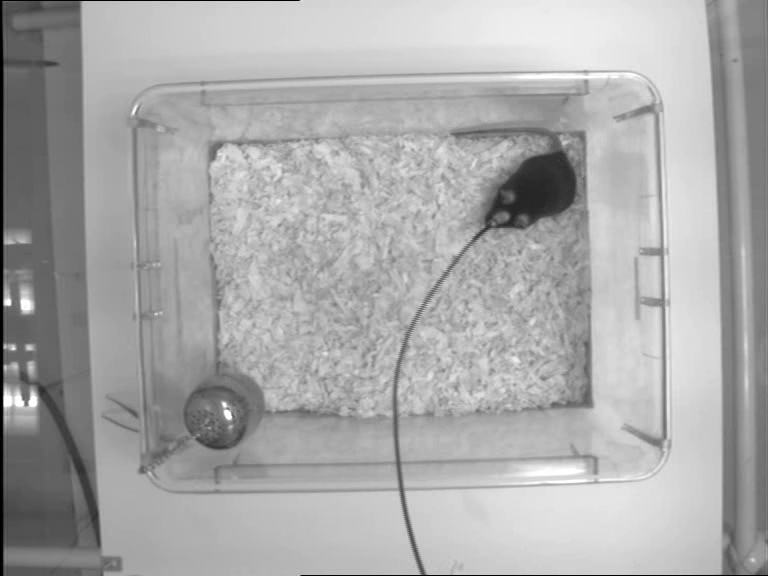mice: (449, 123, 577, 230)
